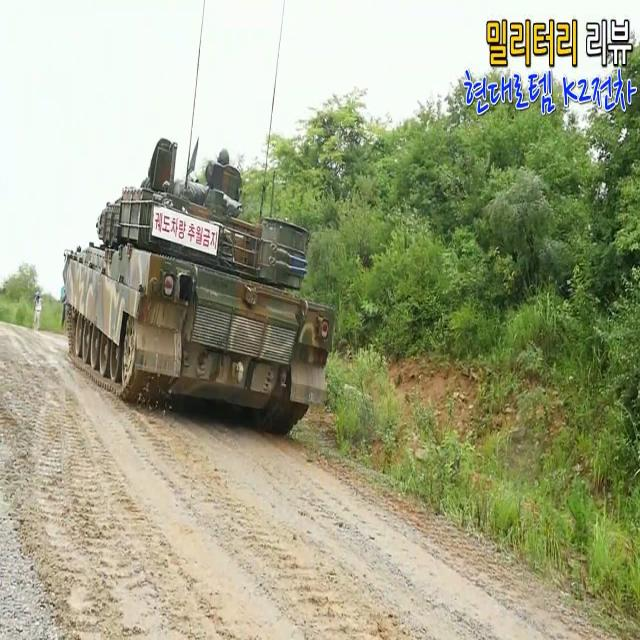korea tank: (57, 136, 336, 441)
